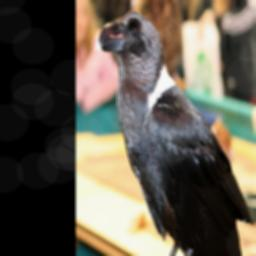Crow: (95, 9, 256, 256)
